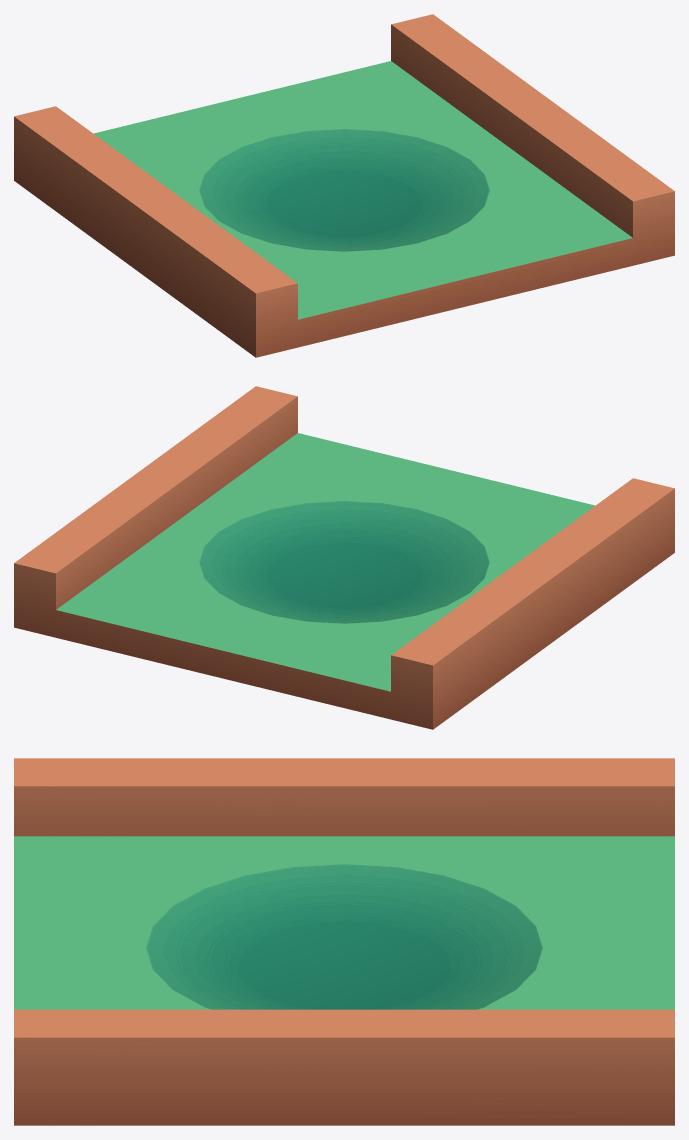
The model's file is bump-down-walls.glb.
3 renders of one model, top to bottom at view 1: azimuth 30°, elevation 25°; view 2: azimuth 150°, elevation 25°; view 3: azimuth 270°, elevation 25°, orthographic. The views are drawn at different scales.
Visible parts, largest first — view 1: bump-down-walls; view 2: bump-down-walls; view 3: bump-down-walls.
Boxes of the visible parts, x1,y1,x2,y2 form: bump-down-walls: (14,14,674,357); bump-down-walls: (14,386,674,729); bump-down-walls: (14,758,674,1125).
Size of the model in its own units: 0.9999 by 0.1467 by 0.9999.
1 material, 1 textured.
